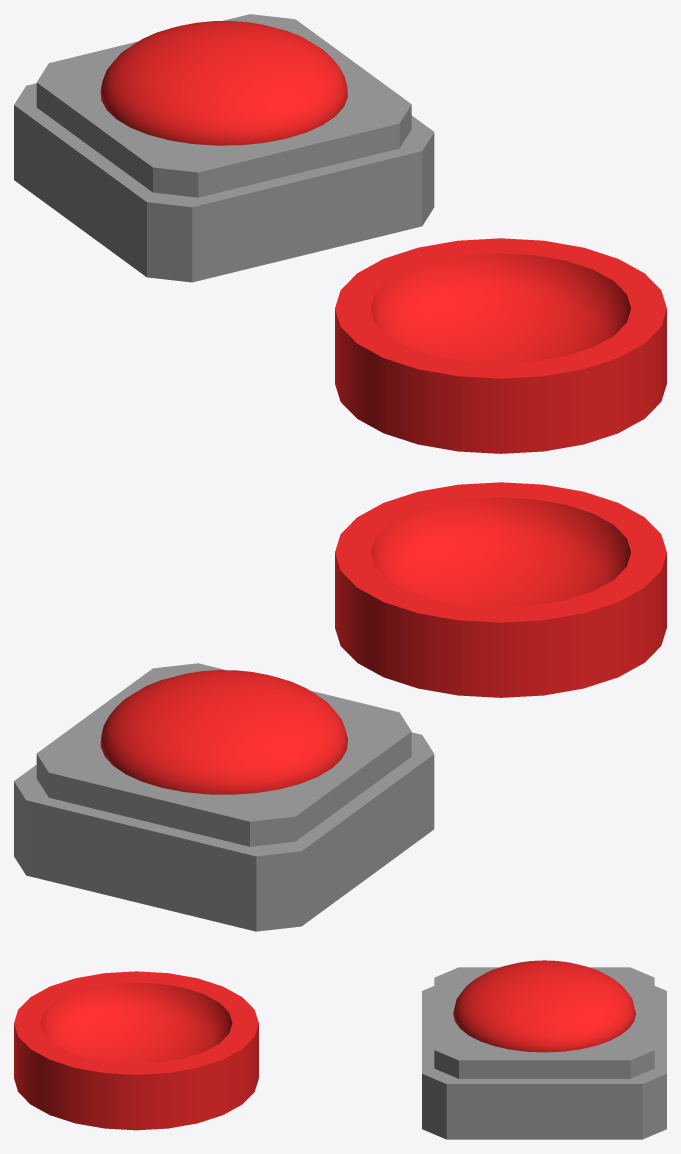
File: Button.obj
3 renders of one model, top to bottom at view 1: azimuth 30°, elevation 25°; view 2: azimuth 150°, elevation 25°; view 3: azimuth 270°, elevation 25°, orthographic. The views are drawn at different scales.
Parts seen in each view (by area): view 1: Output, Handle, Button; view 2: Output, Handle, Button; view 3: Output, Handle, Button.
Boxes of the visible parts, x1,y1,x2,y2 form: Output: (335,238,666,453); Handle: (14,14,434,282); Button: (100,21,347,145); Output: (335,482,666,697); Handle: (14,663,434,931); Button: (100,670,347,794); Output: (14,971,258,1130); Handle: (422,967,666,1139); Button: (453,960,635,1052).
Size of the model in its own units: 0.6 by 0.3 by 1.6.
